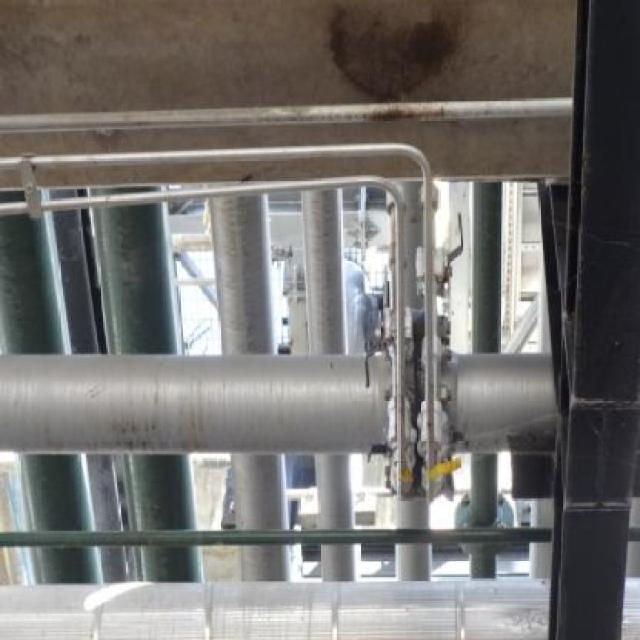gas: (1, 340, 552, 458), (86, 185, 202, 578), (0, 188, 111, 580), (206, 191, 300, 580), (0, 90, 574, 135), (300, 188, 362, 575), (0, 526, 549, 548), (472, 180, 502, 578)
